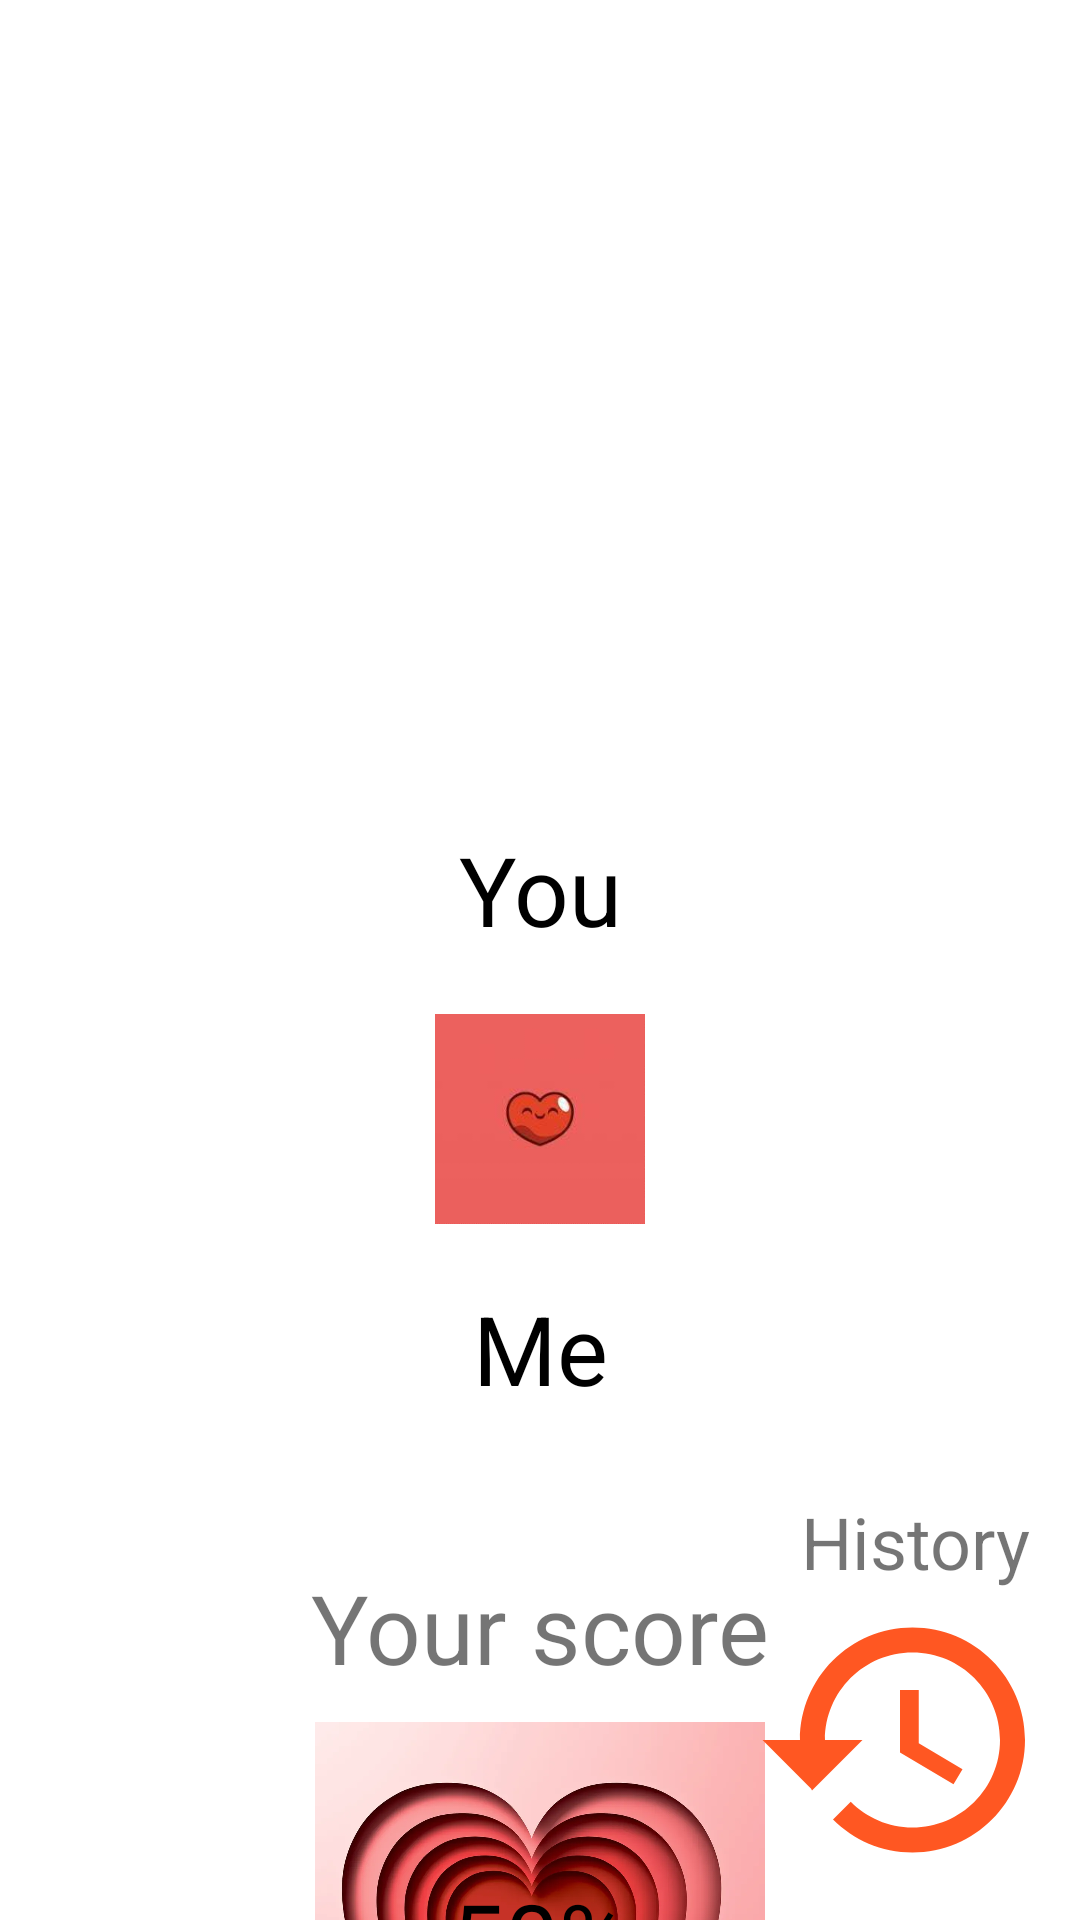

Icon click points for this 1080w x 1920h phone screenshot, format (x,y):
mini love: (540,1119)
